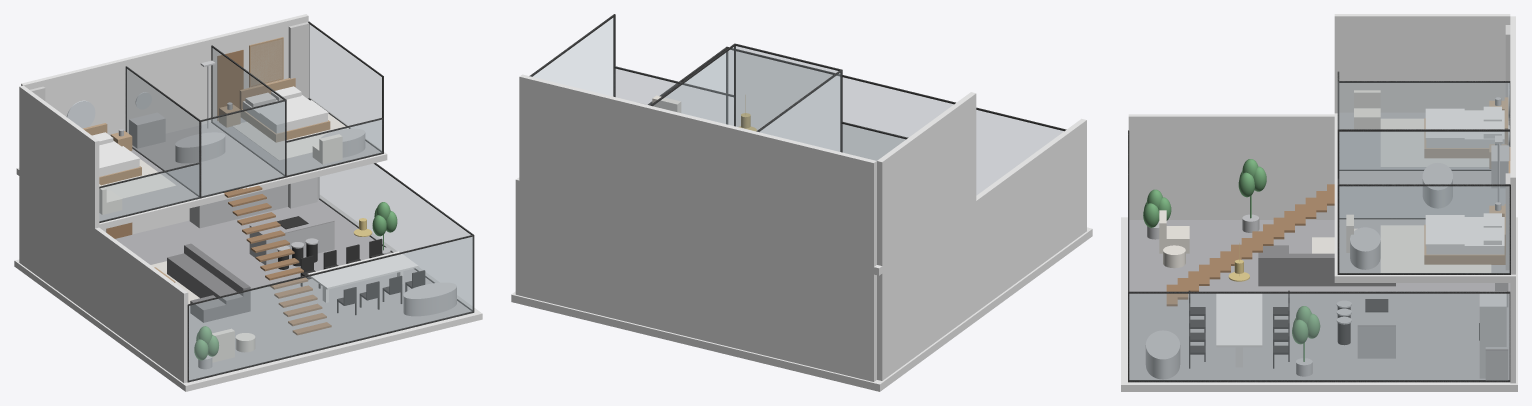
File: house_3d.glb
The picture shows the model from 3 angles, left to right: view 1: azimuth 30°, elevation 25°; view 2: azimuth 150°, elevation 25°; view 3: azimuth 270°, elevation 25°; orthographic projection. The views are drawn at different scales.
Parts seen in each view (by area): view 1: TwoStoryHouse; view 2: TwoStoryHouse; view 3: TwoStoryHouse.
Part boxes in pixels (x1,y1,x2,y2): TwoStoryHouse: (14, 14, 482, 391); TwoStoryHouse: (511, 14, 1092, 391); TwoStoryHouse: (1121, 14, 1517, 391).
Size of the model in its own units: 10.4 by 6.1 by 10.4.
